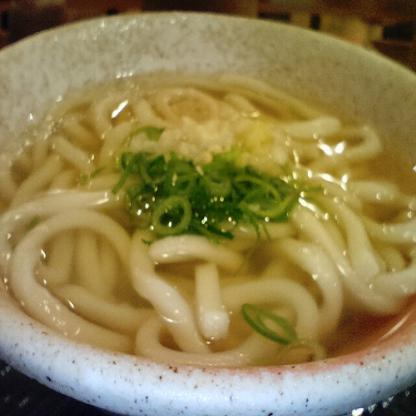Noodles: (0, 67, 415, 366)
